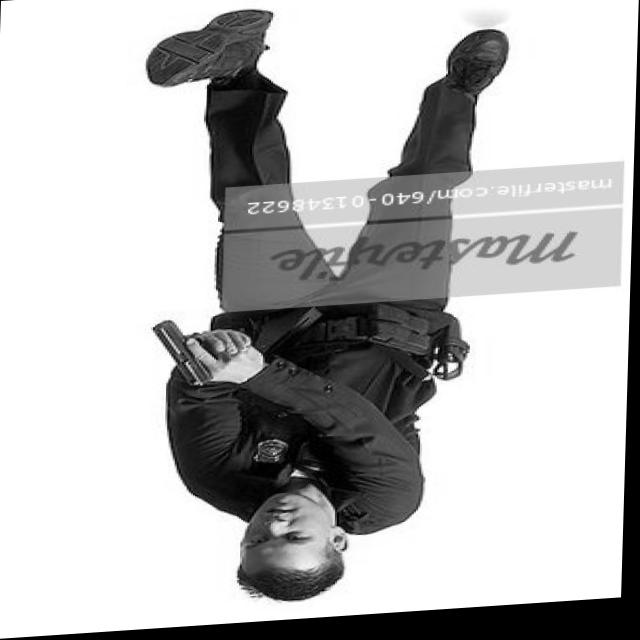handgun: (159, 316, 251, 399)
